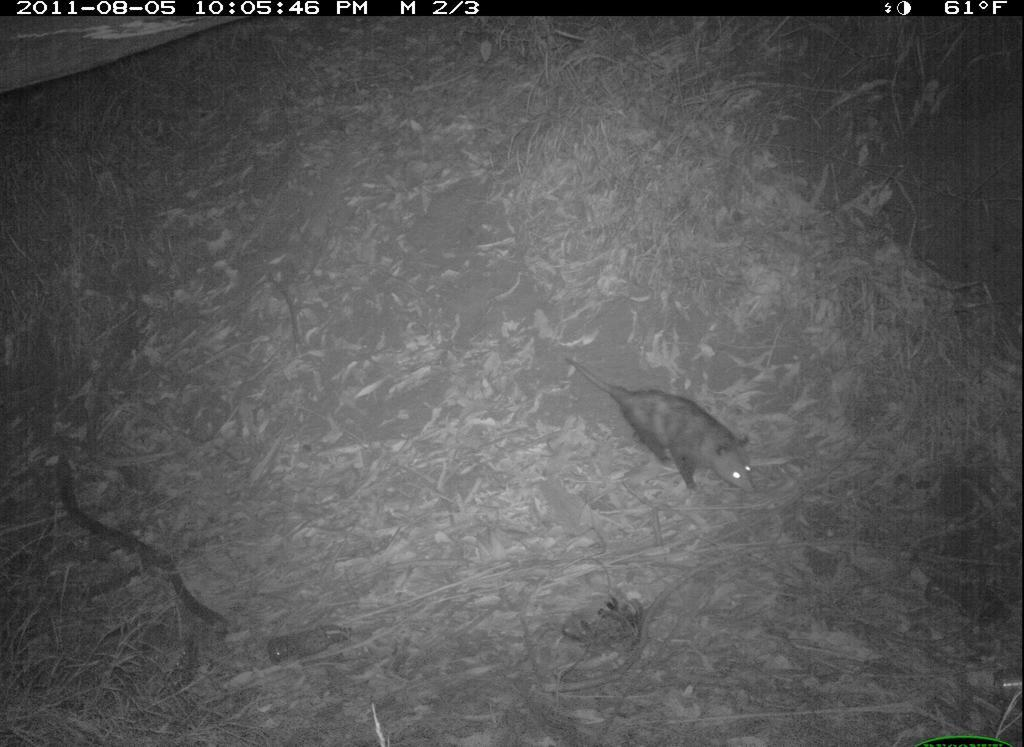opossum: (561, 351, 763, 502)
